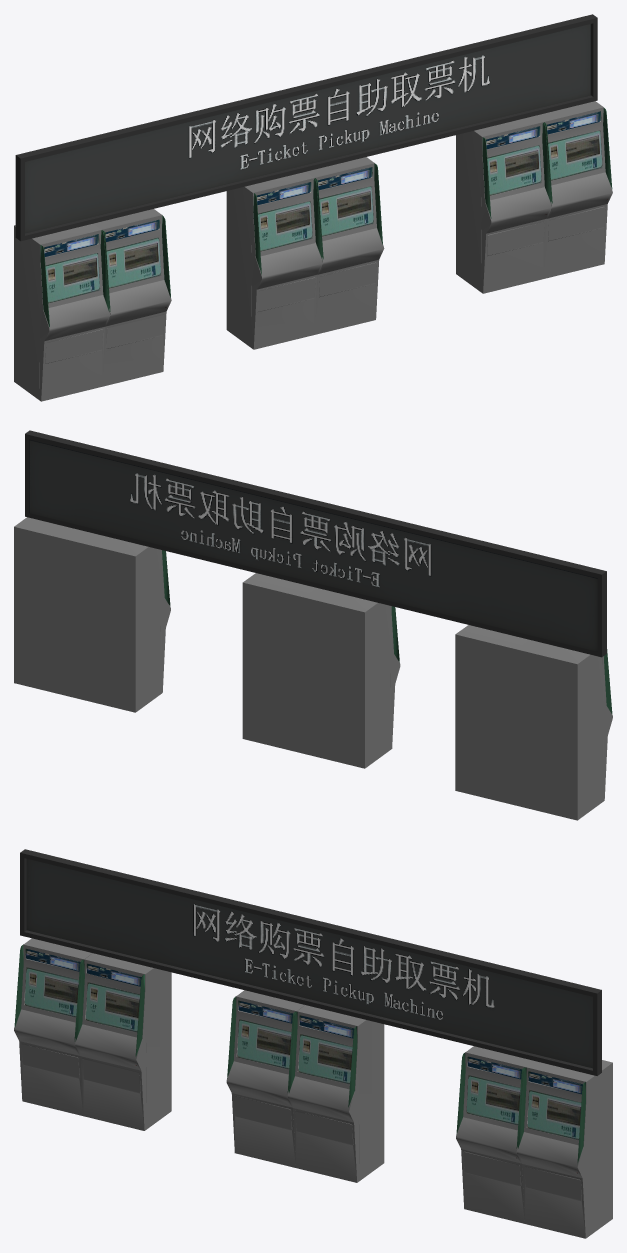
File: 售票机-.FBX
3 renders of one model, top to bottom at view 1: azimuth 30°, elevation 25°; view 2: azimuth 150°, elevation 25°; view 3: azimuth 330°, elevation 25°, orthographic.
Parts seen in each view (by area): view 1: 网格072, 网格073, 网格074, 网格075; view 2: 网格072, 网格073, 网格074, 网格075; view 3: 网格072, 网格073, 网格074, 网格075.
Boxes of the visible parts, x1,y1,x2,y2 form: 网格072: (14,101,612,401); 网格073: (25,24,590,233); 网格074: (15,14,597,241); 网格075: (40,108,612,327); 网格072: (14,517,612,820); 网格073: (29,439,597,651); 网格074: (25,430,606,657); 网格075: (162,550,612,714); 网格072: (14,938,612,1238); 网格073: (26,859,592,1068); 网格074: (20,849,601,1075); 网格075: (14,945,585,1163).
Bounding box in the file's own units: 684 × 271 × 72.91.
